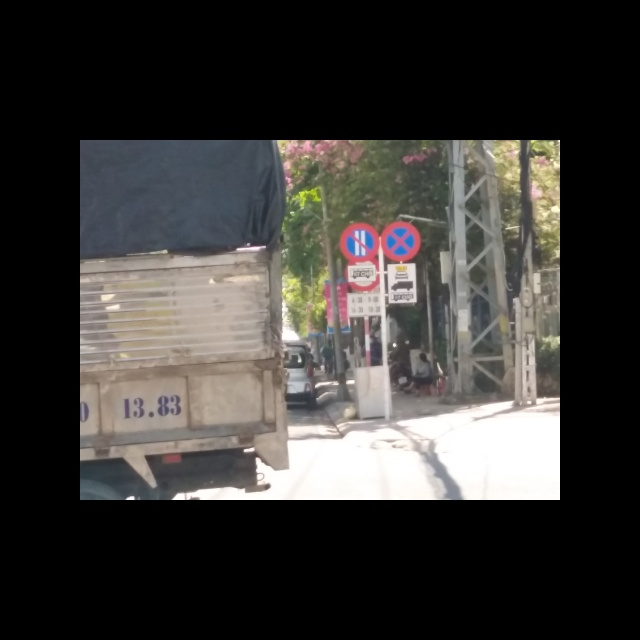Cấm dừng xe và đỗ xe: (381, 222, 421, 263)
Cấm đỗ xe ngày chẵn: (338, 222, 380, 262)
